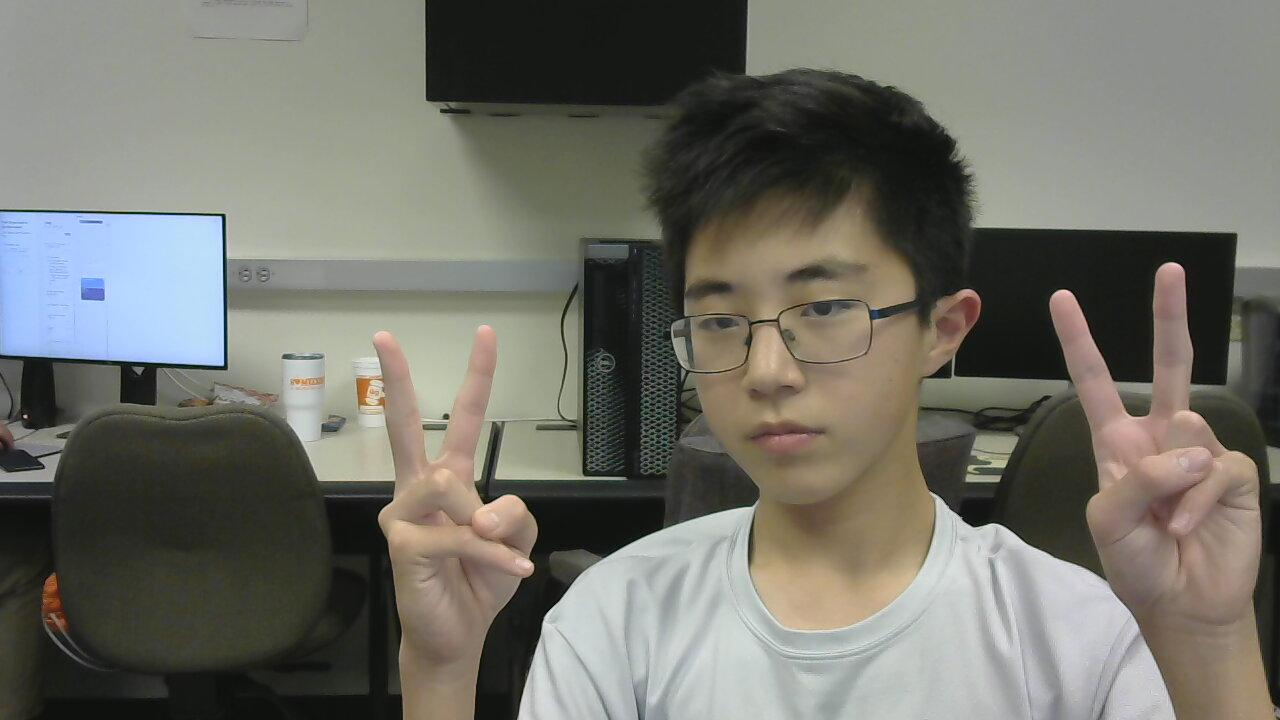peace: (1028, 252, 1275, 639), (336, 279, 569, 676)
